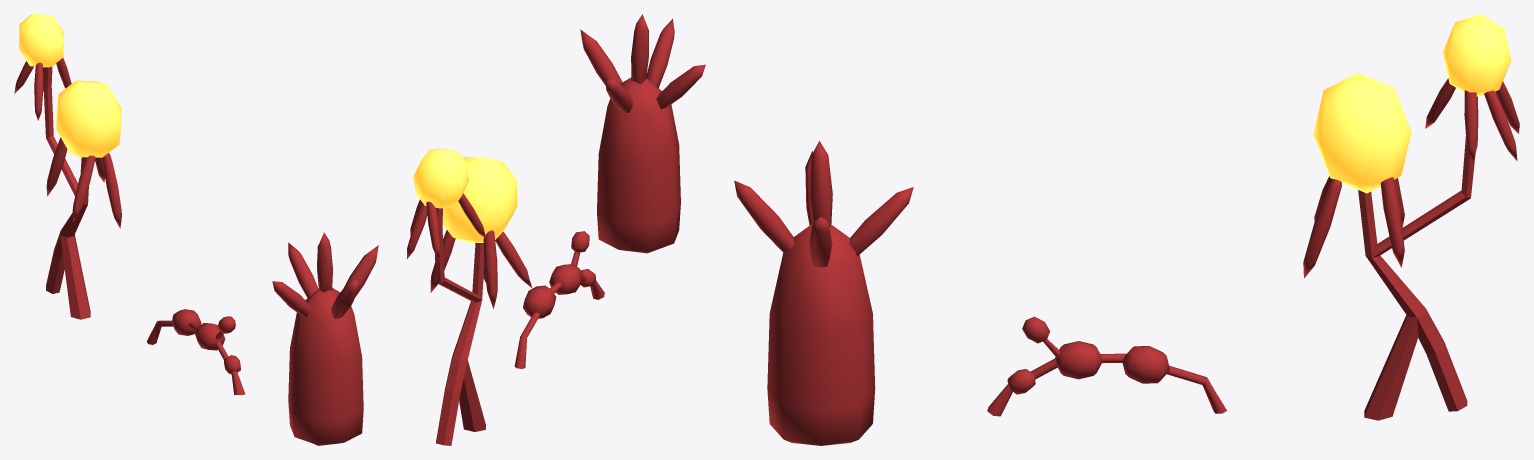
File: Plant vampire models.fbx
The picture shows the model from 3 angles, left to right: view 1: azimuth 30°, elevation 25°; view 2: azimuth 150°, elevation 25°; view 3: azimuth 270°, elevation 25°; orthographic projection. The views are drawn at different scales.
Visible parts, largest first — view 1: Cube, Cube.017, Cube.006; view 2: Cube, Cube.017, Cube.006; view 3: Cube.017, Cube, Cube.006.
Boxes of the visible parts, x1,y1,x2,y2 form: Cube: (272, 232, 378, 445); Cube.017: (14, 14, 121, 319); Cube.006: (147, 309, 244, 394); Cube: (580, 14, 705, 253); Cube.017: (407, 148, 531, 445); Cube.006: (514, 231, 604, 368); Cube.017: (1303, 14, 1519, 420); Cube: (734, 141, 913, 445); Cube.006: (987, 316, 1226, 416).
Size of the model in its own units: 144 by 290 by 526.
